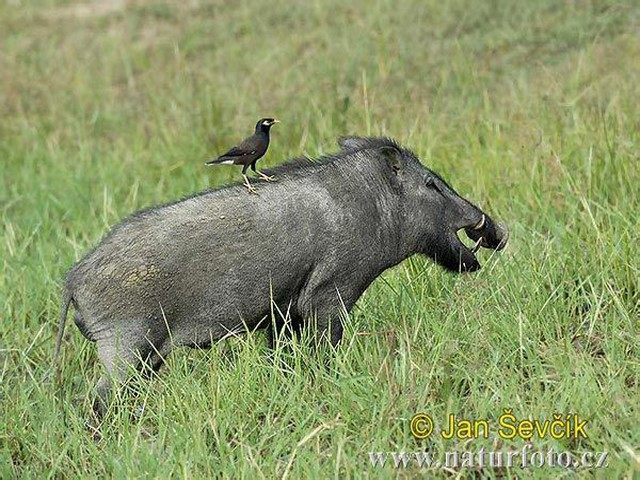Pig: (68, 150, 506, 367)
